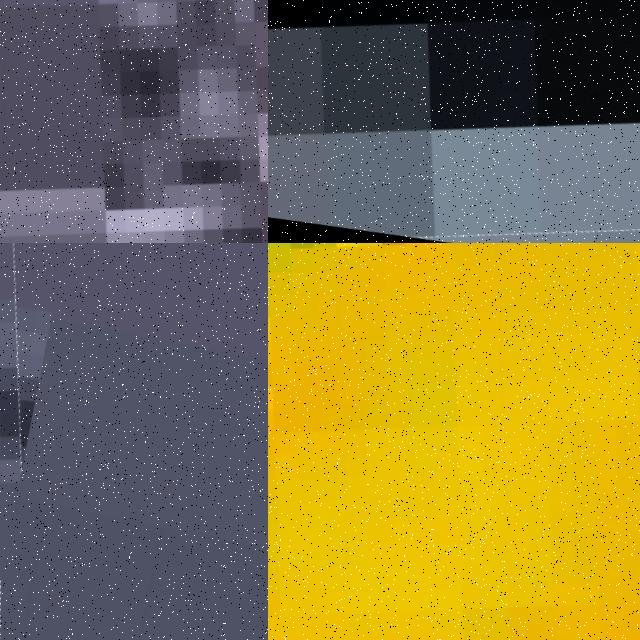drone: (268, 243, 640, 640), (268, 0, 640, 243), (0, 0, 268, 243), (0, 243, 86, 640)
